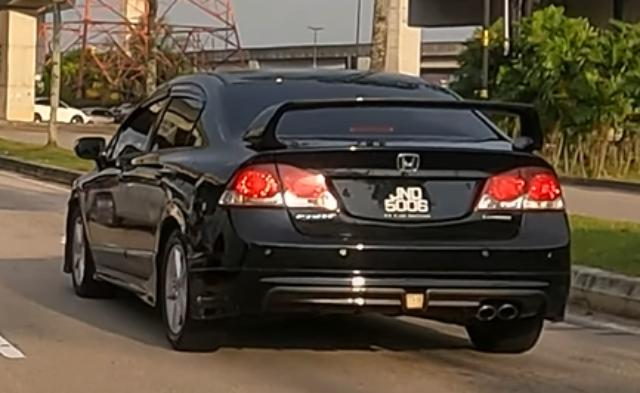License_Plate: (367, 185, 448, 220)
car: (62, 68, 573, 354)
